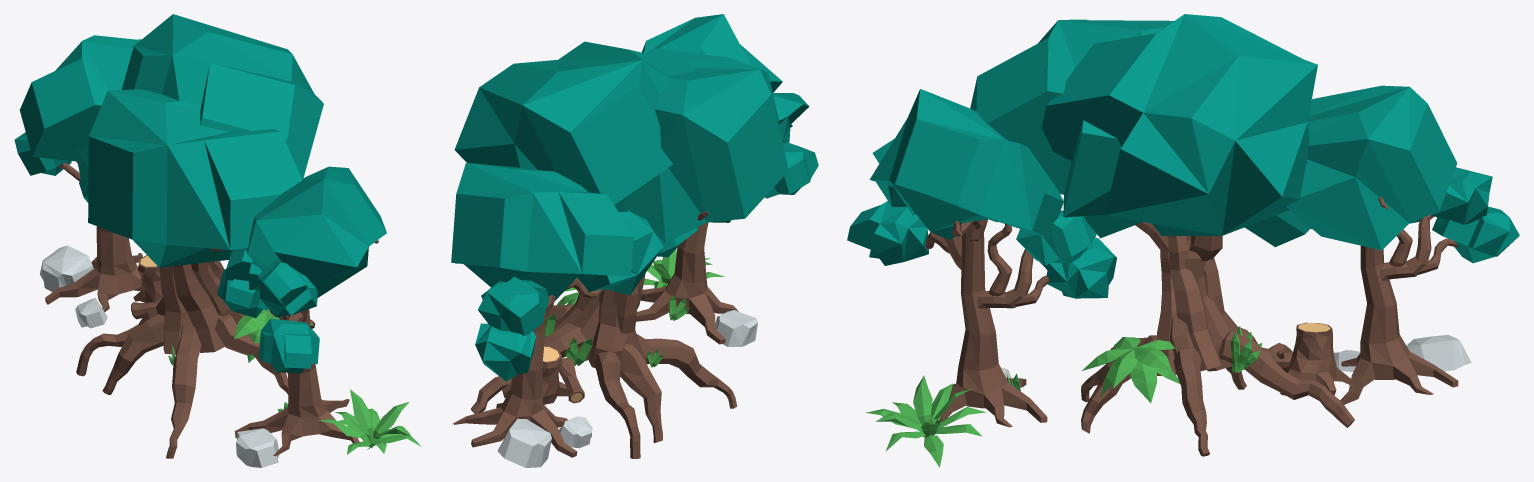
The model's file is Woods Grove.glb.
The picture shows the model from 3 angles, left to right: view 1: azimuth 30°, elevation 25°; view 2: azimuth 150°, elevation 25°; view 3: azimuth 270°, elevation 25°; orthographic projection. The views are drawn at different scales.
Visible parts, largest first — view 1: group1634341855, group443772894, group937971834, group599290752, group1890178627, group133283747, group1101735918, group1142921997, group1556665224, group3007029, group1992776559, group415510944 (+7 smaller); view 2: group443772894, group1634341855, group1890178627, group937971834, group1101735918, group133283747, group599290752, group783008413, group1678092117, group475868568, group1992776559, group1142921997 (+8 smaller); view 3: group443772894, group1890178627, group599290752, group1634341855, group937971834, group133283747, group1101735918, group1142921997, group1556665224, group734299636, group620404869, group475868568 (+5 smaller).
Part boxes in pixels (box(x1,y1,x2,y2)): group1634341855: box(88, 89, 302, 267); group443772894: box(121, 14, 323, 178); group937971834: box(76, 248, 315, 458); group599290752: box(245, 166, 386, 297); group1890178627: box(19, 35, 141, 161); group133283747: box(234, 240, 378, 456); group1101735918: box(45, 161, 142, 311); group1142921997: box(259, 318, 319, 373); group1556665224: box(318, 389, 421, 454); group3007029: box(257, 259, 317, 317); group1992776559: box(40, 245, 93, 291); group415510944: box(236, 428, 279, 467); group443772894: box(454, 41, 695, 212); group1634341855: box(623, 48, 788, 243); group1890178627: box(451, 163, 633, 301); group937971834: box(470, 211, 736, 458); group1101735918: box(453, 278, 604, 457); group133283747: box(636, 222, 738, 344); group599290752: box(642, 14, 782, 92); group783008413: box(478, 276, 549, 335); group1678092117: box(577, 211, 663, 295); group475868568: box(475, 323, 535, 381); group1992776559: box(497, 418, 551, 467); group1142921997: box(765, 142, 818, 198); group443772894: box(1041, 14, 1317, 235); group1890178627: box(1286, 85, 1457, 250); group599290752: box(869, 89, 1063, 239); group1634341855: box(970, 19, 1173, 238); group937971834: box(1081, 222, 1354, 456); group133283747: box(925, 219, 1049, 427); group1101735918: box(1310, 197, 1458, 404); group1142921997: box(847, 201, 928, 265); group1556665224: box(865, 375, 985, 467); group734299636: box(1082, 337, 1179, 402); group620404869: box(1040, 237, 1116, 298); group475868568: box(1432, 206, 1519, 263).
Size of the model in its own units: 3.66 by 5.15 by 7.62.
